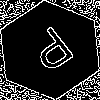P: (25, 25, 83, 81)
